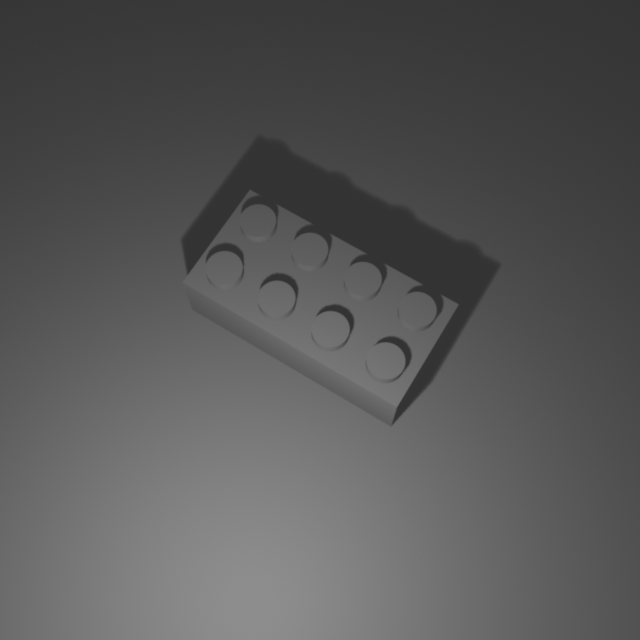lego_2x4: (181, 184, 461, 427)
